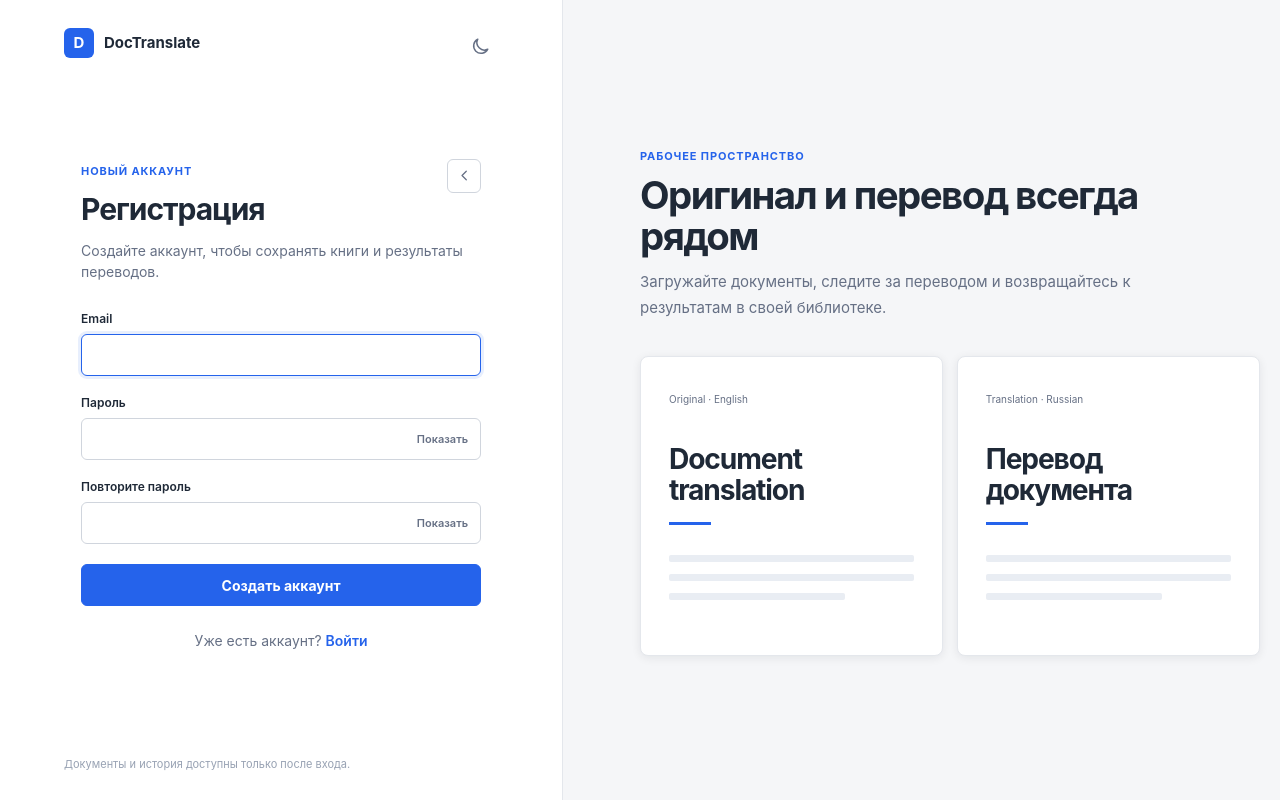
Test: authentication flow › registers an account and shows the email verification handoff
Type "new@example.com" into the field labelled "Email". click: (281, 355)
box: [81,334,481,376]
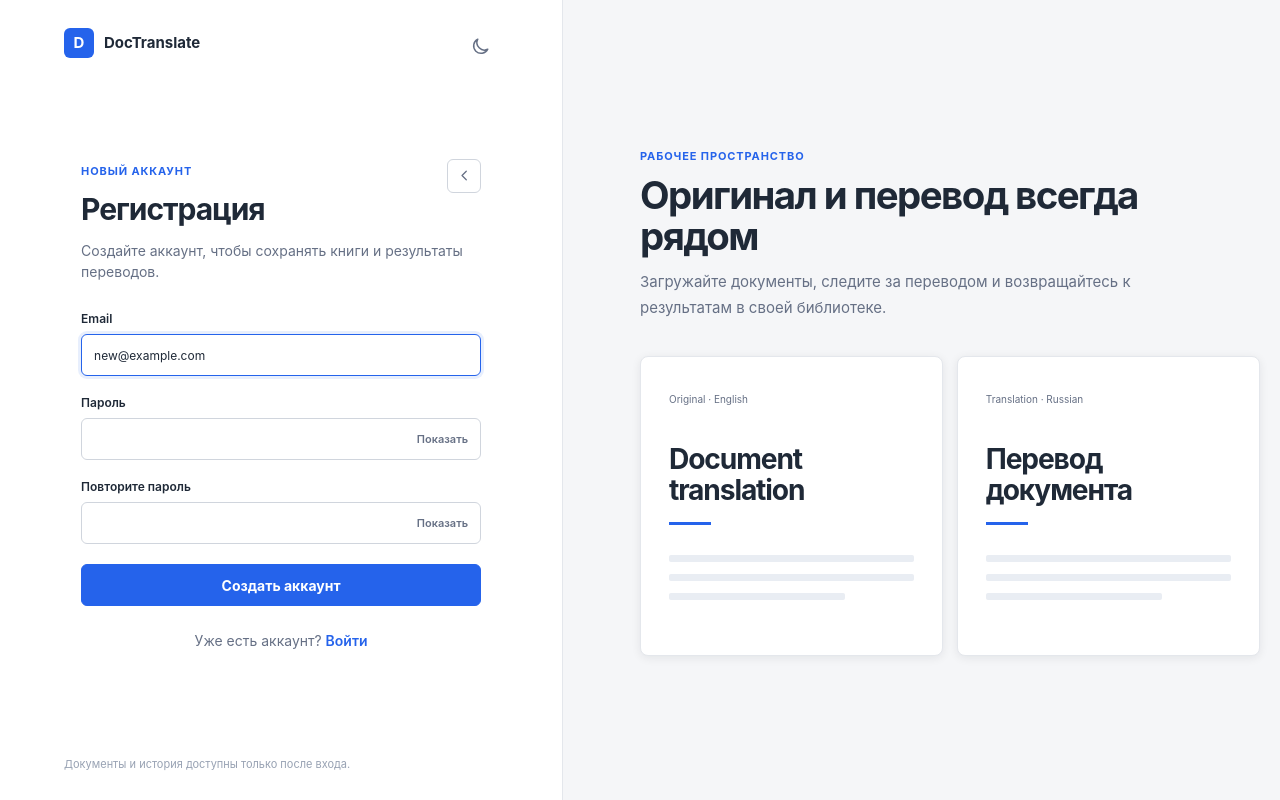
Type "password123" into the password field labelled "Пароль". click: (281, 439)
box: [81,418,481,460]
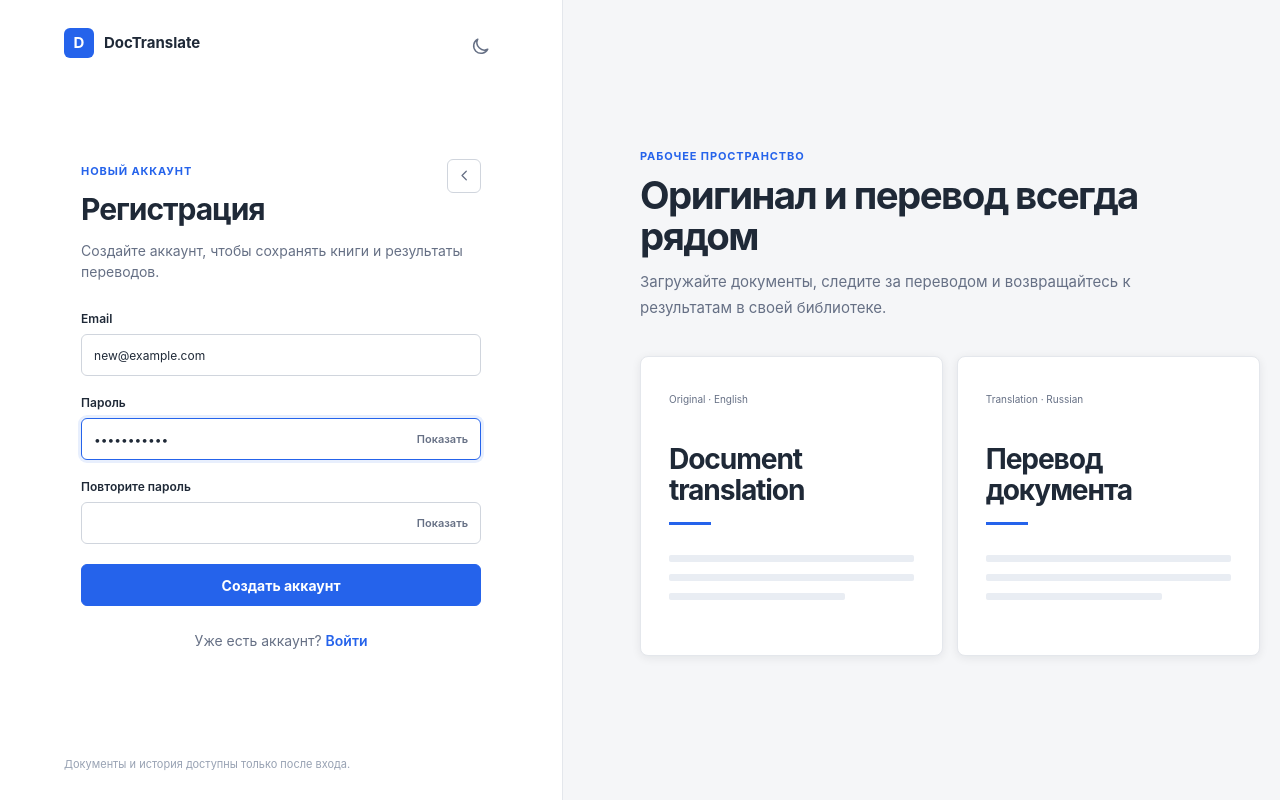
Type "password123" into the password field labelled "Повторите пароль". click: (281, 523)
box: [81,502,481,544]
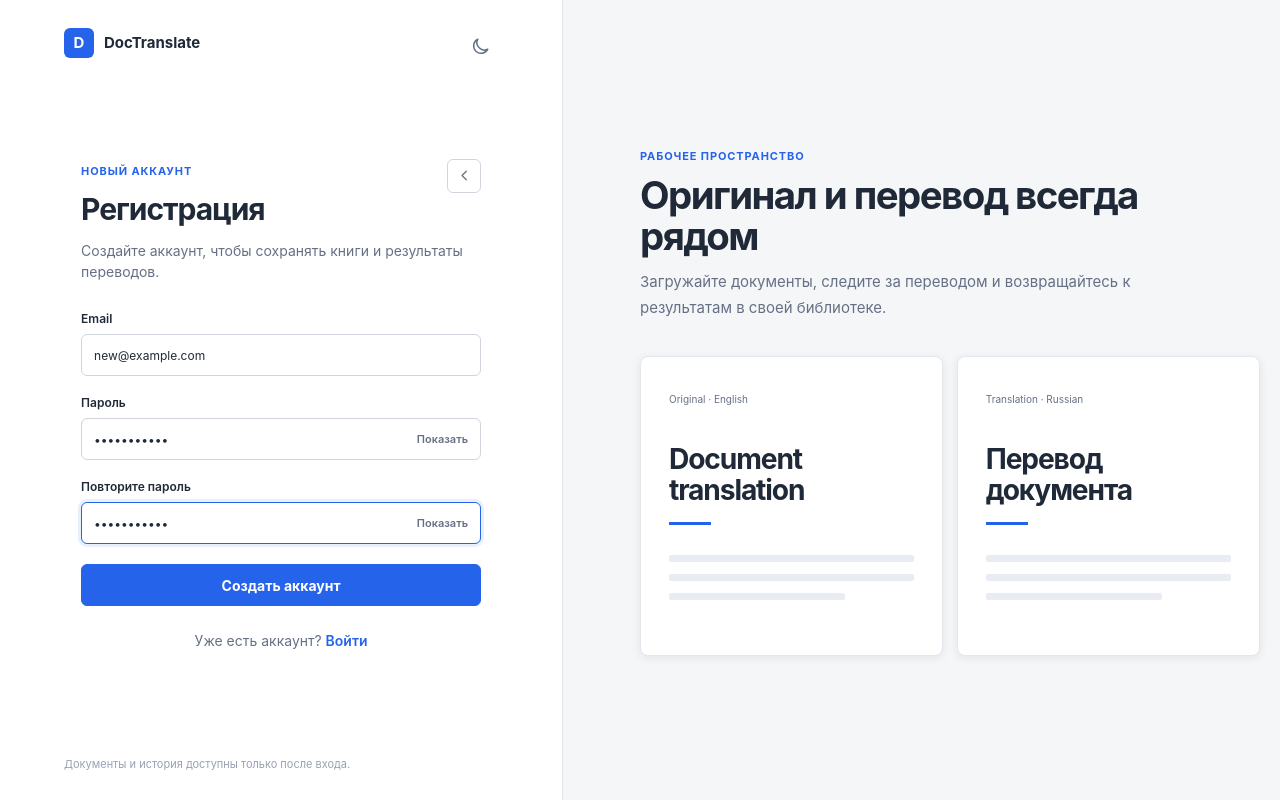
Click the button "Создать аккаунт". click: (281, 585)
box: [81,564,481,606]
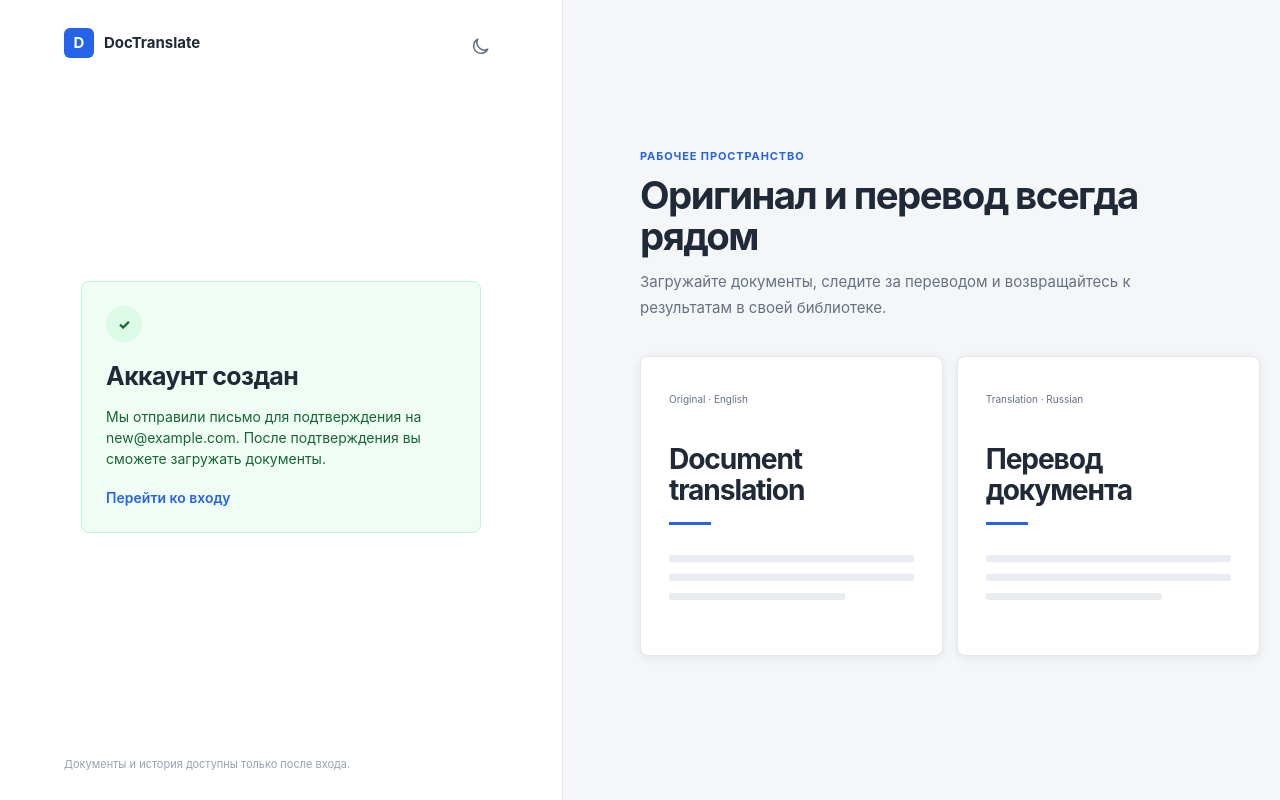
Result: the heading "Аккаунт создан" is shown at [106,361,298,391]
Result: the text "new@example.com" is shown at [106,408,421,466]
